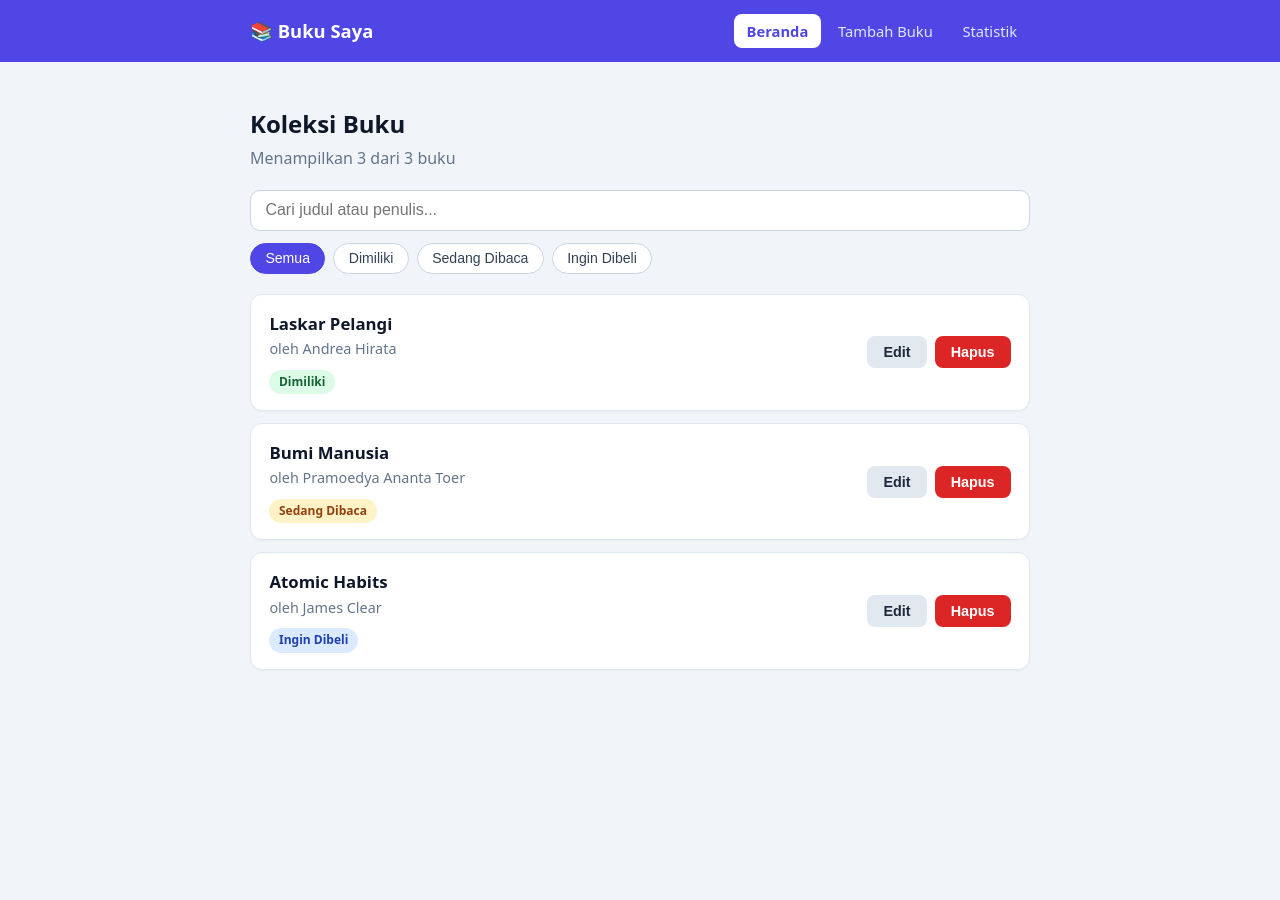
Integrasi aplikasi › menghapus buku setelah konfirmasi
The image size is (1280, 900).
Click the button with aria-label "Hapus Atomic Habits" at (973, 611), box x1=935 y1=595 x2=1011 y2=627
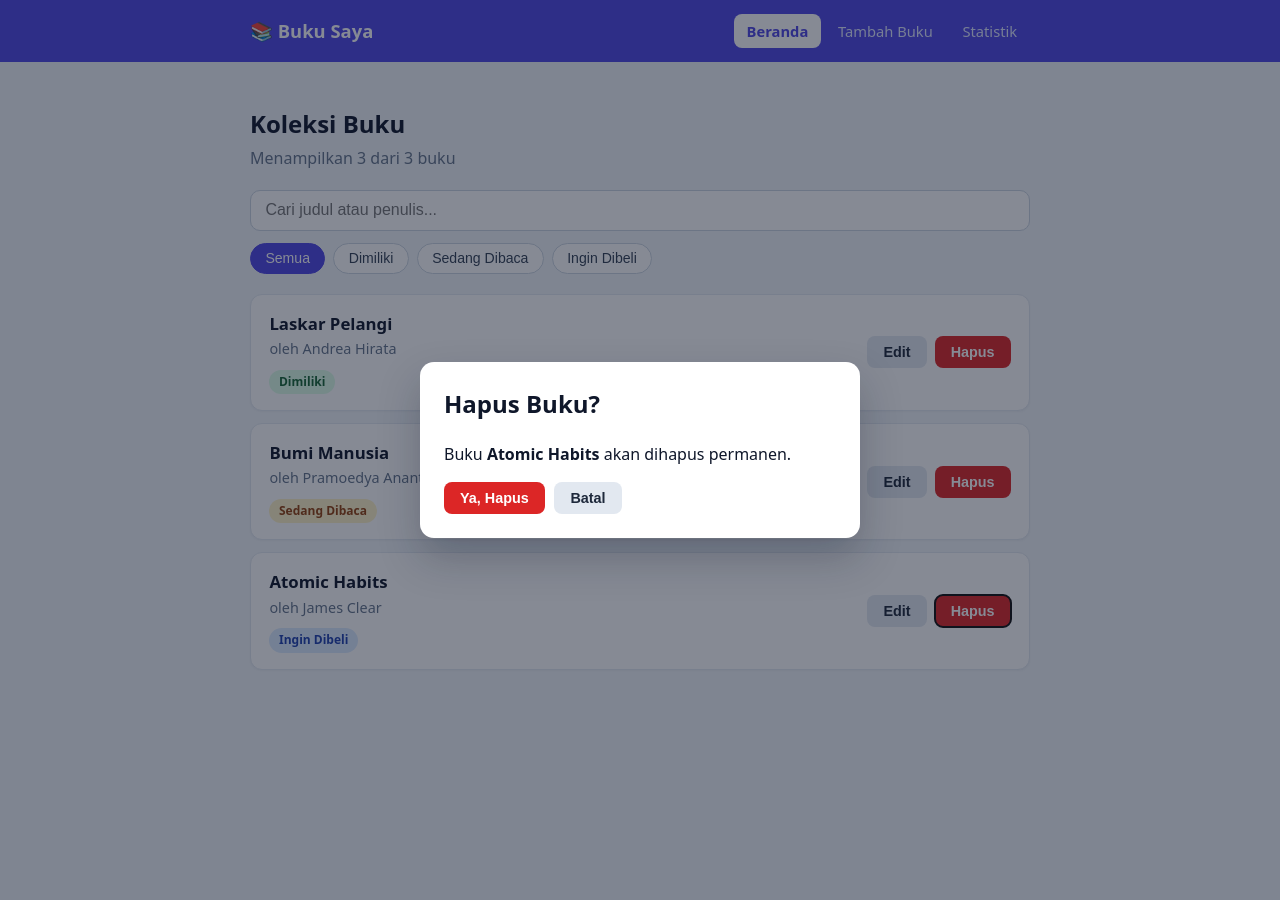
Click the button "Ya, Hapus" at (494, 498), box x1=444 y1=482 x2=545 y2=514
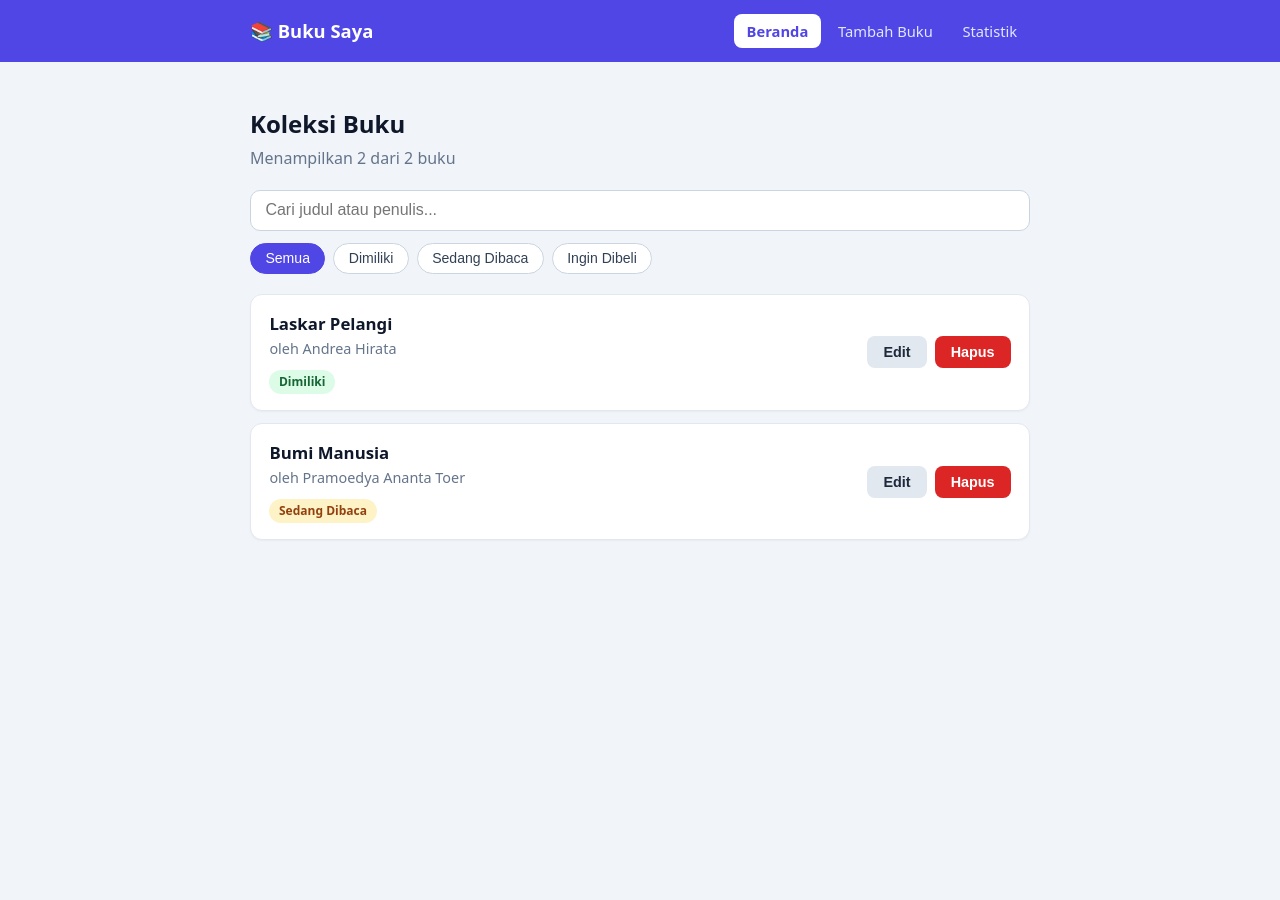
Check: the heading "Atomic Habits" is gone
